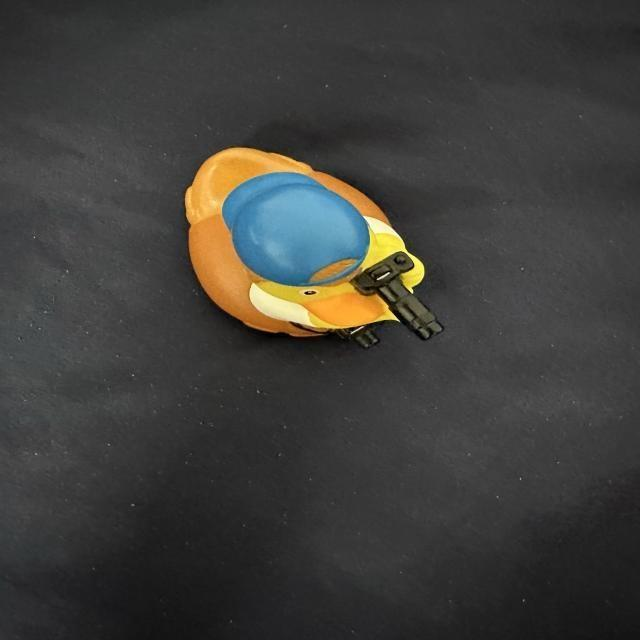rubber-duck: (184, 147, 441, 345)
